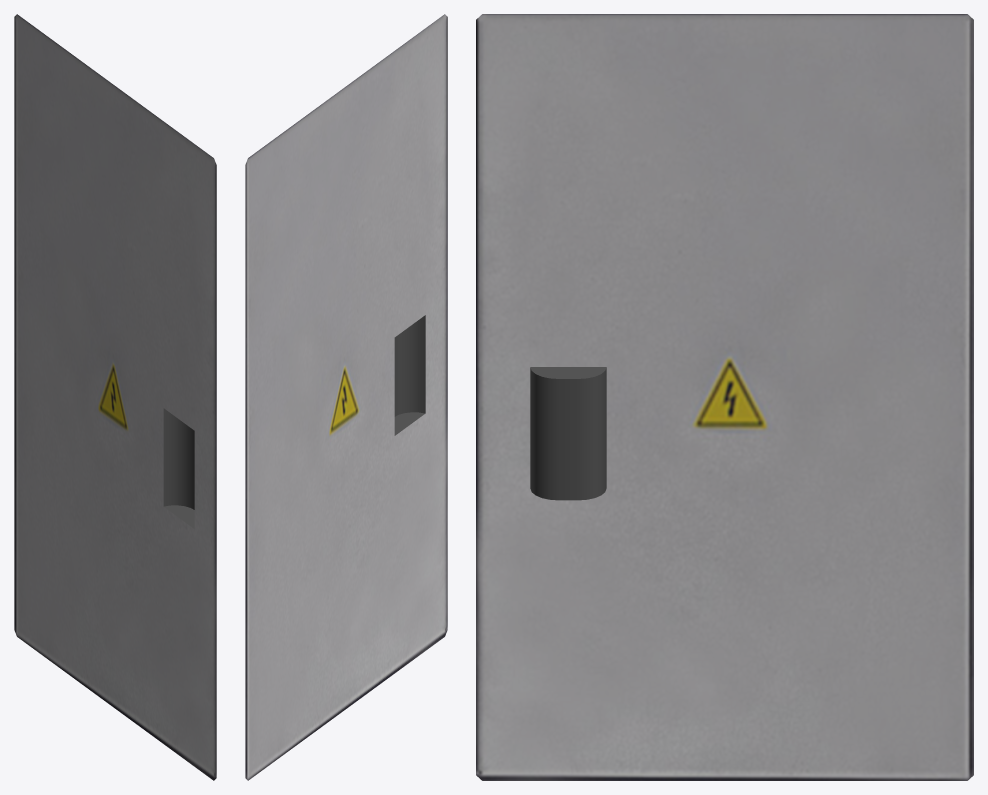
File: fusebox_door.fbx
The picture shows the model from 3 angles, left to right: view 1: azimuth 30°, elevation 25°; view 2: azimuth 150°, elevation 25°; view 3: azimuth 270°, elevation 25°; orthographic projection. The views are drawn at different scales.
Visible parts, largest first — view 1: doorbake; view 2: doorbake; view 3: doorbake.
Part boxes in pixels (left/top/right/bottom): doorbake: left=14, top=14, right=216, bottom=780; doorbake: left=245, top=14, right=447, bottom=780; doorbake: left=476, top=14, right=973, bottom=780.
Bounding box in the file's own units: 6.18 × 186 × 110.
Materials: 1 (1 with a texture image).
